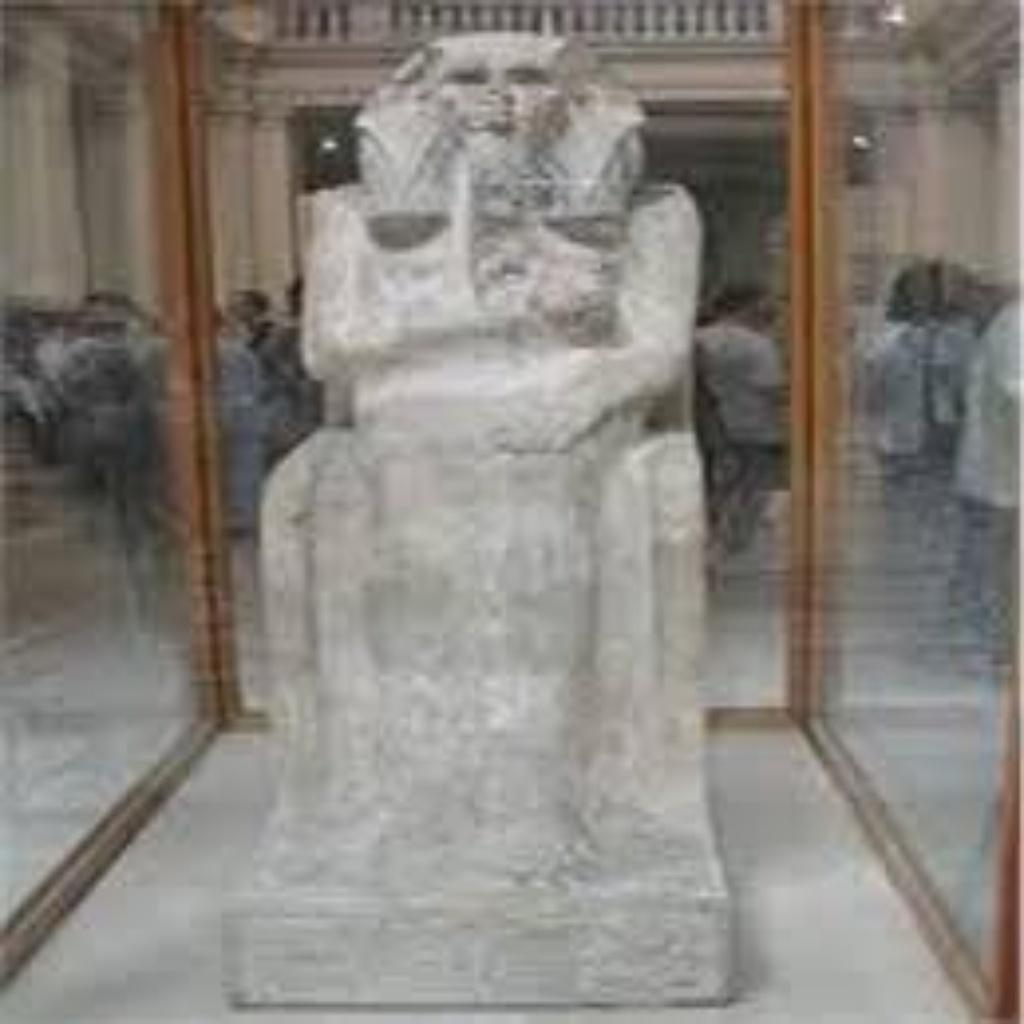Statue of King Zoser: (222, 21, 740, 1003)
